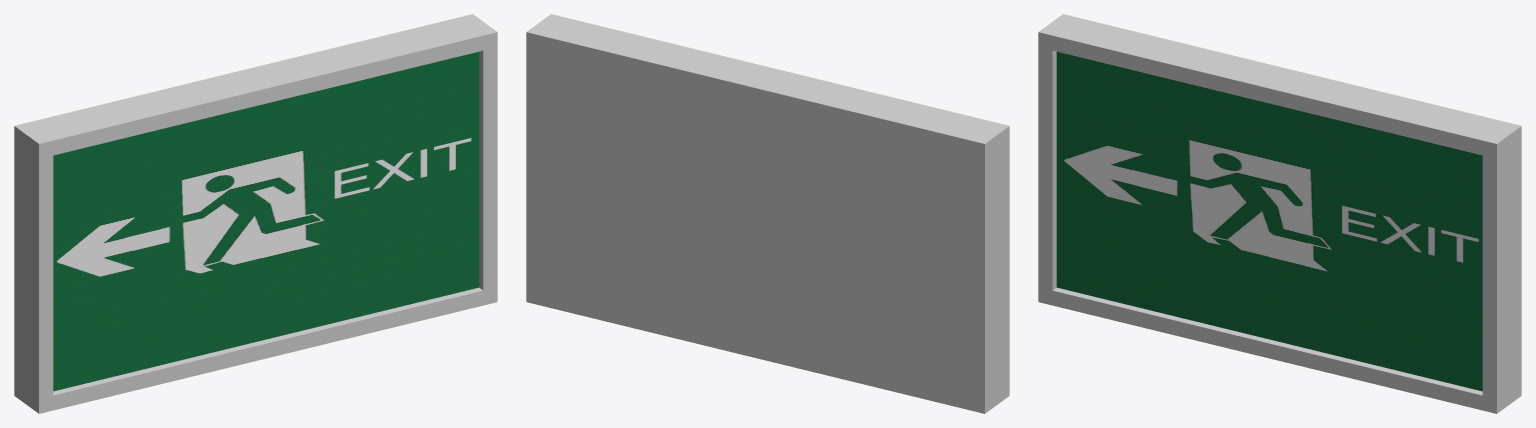
The model's file is Placas.fbx_Placasaidaesquerda.fbx.
3 renders of one model, left to right at view 1: azimuth 30°, elevation 25°; view 2: azimuth 150°, elevation 25°; view 3: azimuth 330°, elevation 25°, orthographic.
Parts seen in each view (by area): view 1: Placasaidaesquerda, Proteçaoesquerda; view 2: Proteçaoesquerda; view 3: Placasaidaesquerda, Proteçaoesquerda.
Boxes of the visible parts, <box> form: Placasaidaesquerda: <box>53,51,479,391</box>; Proteçaoesquerda: <box>14,14,497,413</box>; Proteçaoesquerda: <box>526,14,1009,413</box>; Placasaidaesquerda: <box>1056,51,1482,391</box>; Proteçaoesquerda: <box>1038,14,1521,413</box>.
Bounding box in the file's own units: 32 × 18 × 3.
